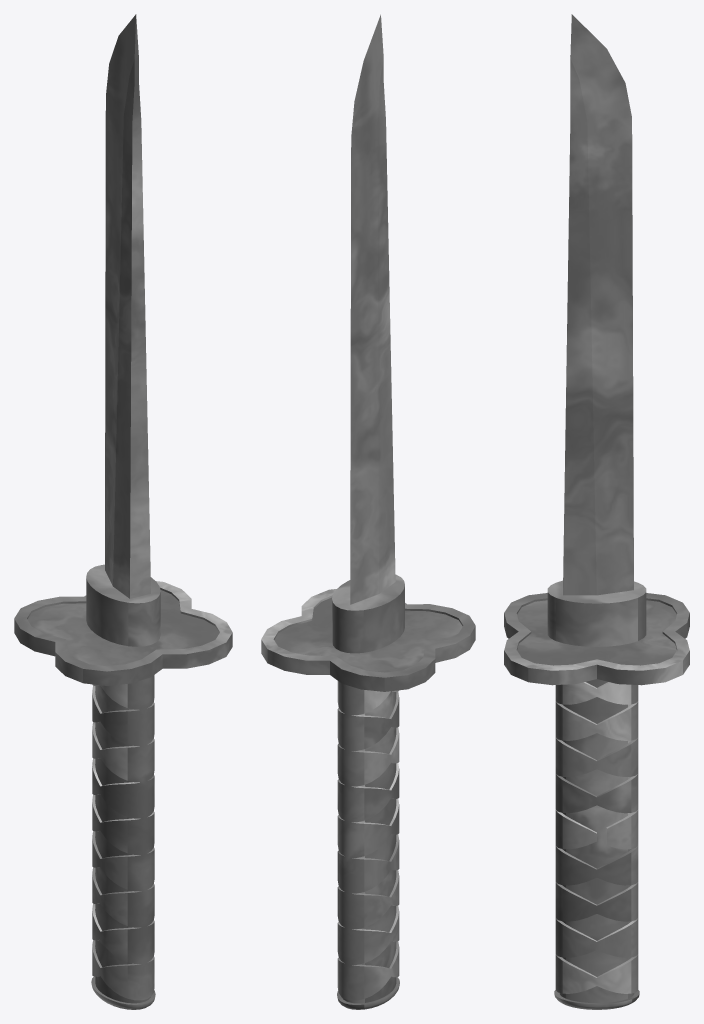
The model's file is Sm_tanto_02.fbx.
3 views of the same model, side by side, from view 1: azimuth 30°, elevation 25°; view 2: azimuth 150°, elevation 25°; view 3: azimuth 270°, elevation 25° (orthographic).
Visible parts, largest first — view 1: Sm_tanto_02; view 2: Sm_tanto_02; view 3: Sm_tanto_02.
Boxes of the visible parts, x1=… form: Sm_tanto_02: x1=14, y1=14, x2=232, y2=1009; Sm_tanto_02: x1=261, y1=14, x2=475, y2=1009; Sm_tanto_02: x1=504, y1=14, x2=689, y2=1009.
Size of the model in its own units: 8.16 by 8.16 by 47.84.
Materials: 1 (1 with a texture image).
